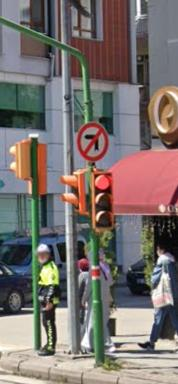rightturnsareforbidden: (79, 122, 110, 162)
